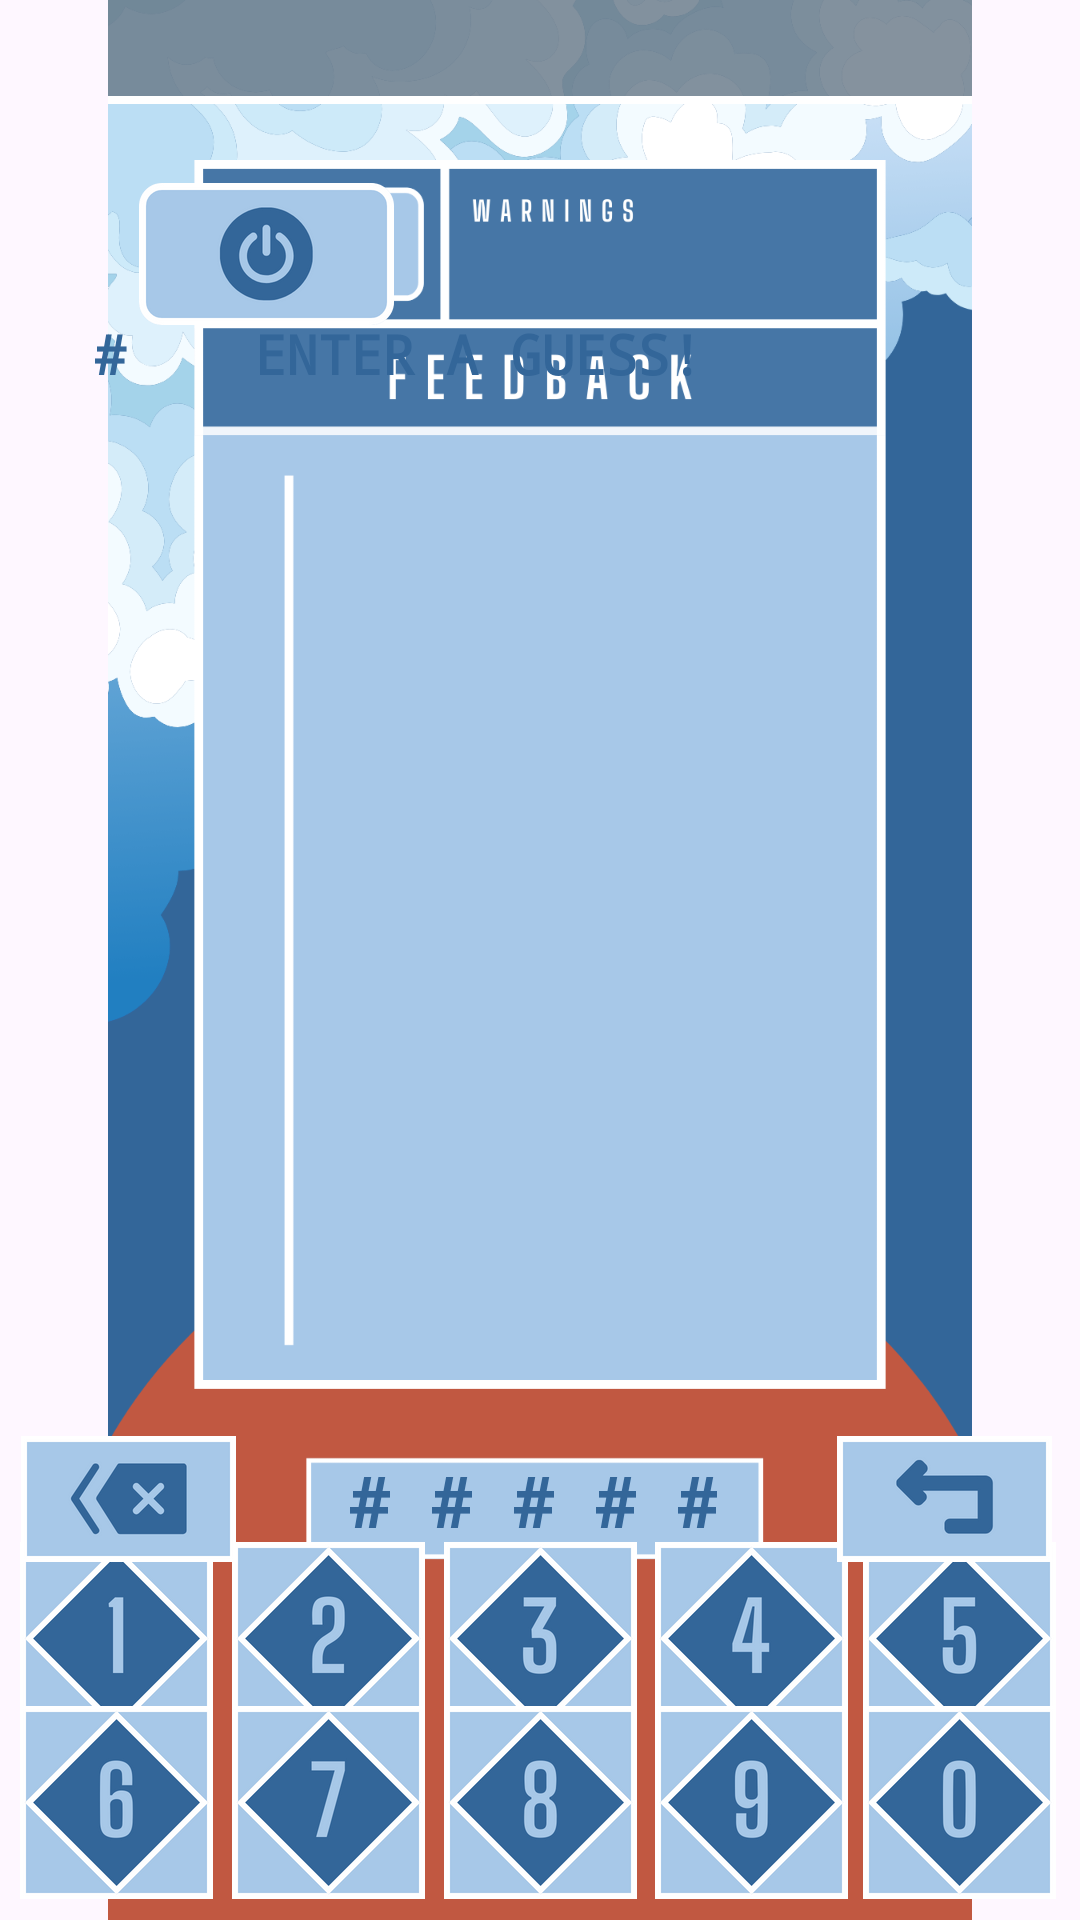

Where to tap for icons on this 1080 × 1920 app screen, as (x=x, y=y):
backspace: (x=128, y=1499)
quit: (x=266, y=254)
submit: (x=944, y=1499)
